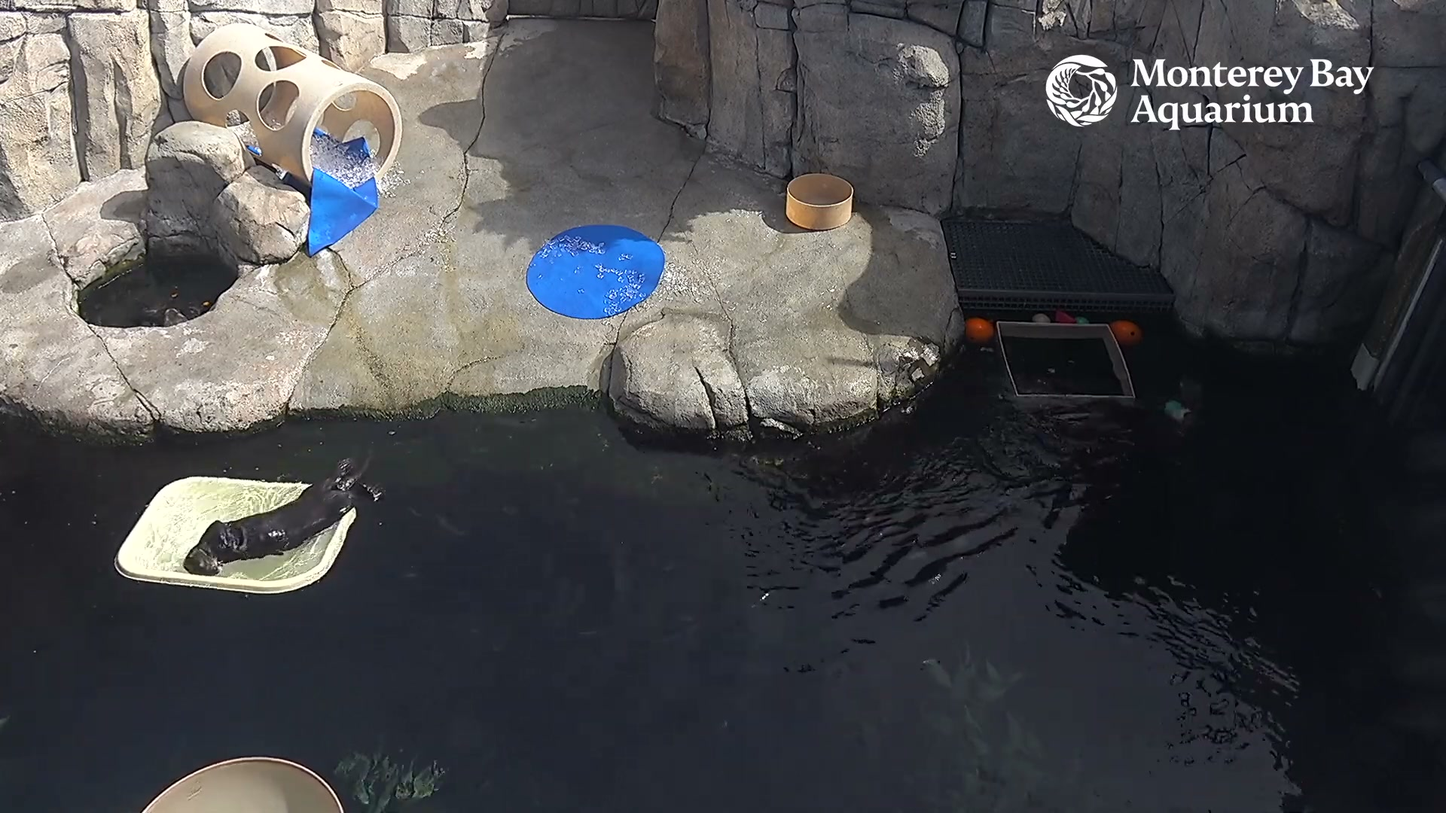Southern Sea Otter: (167, 444, 392, 577), (140, 302, 216, 325)
